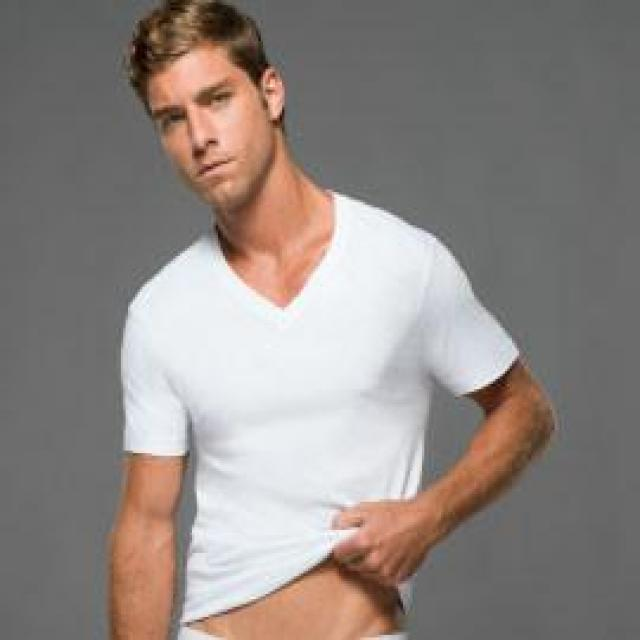human: (112, 4, 563, 640)
